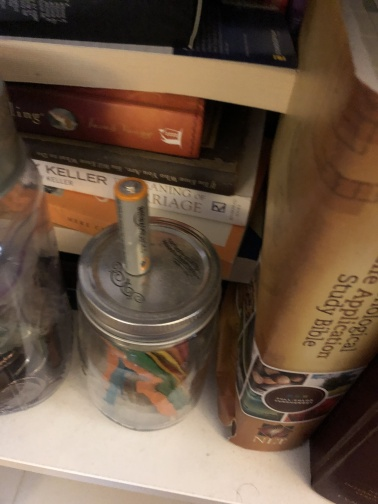battery: (111, 175, 155, 277)
